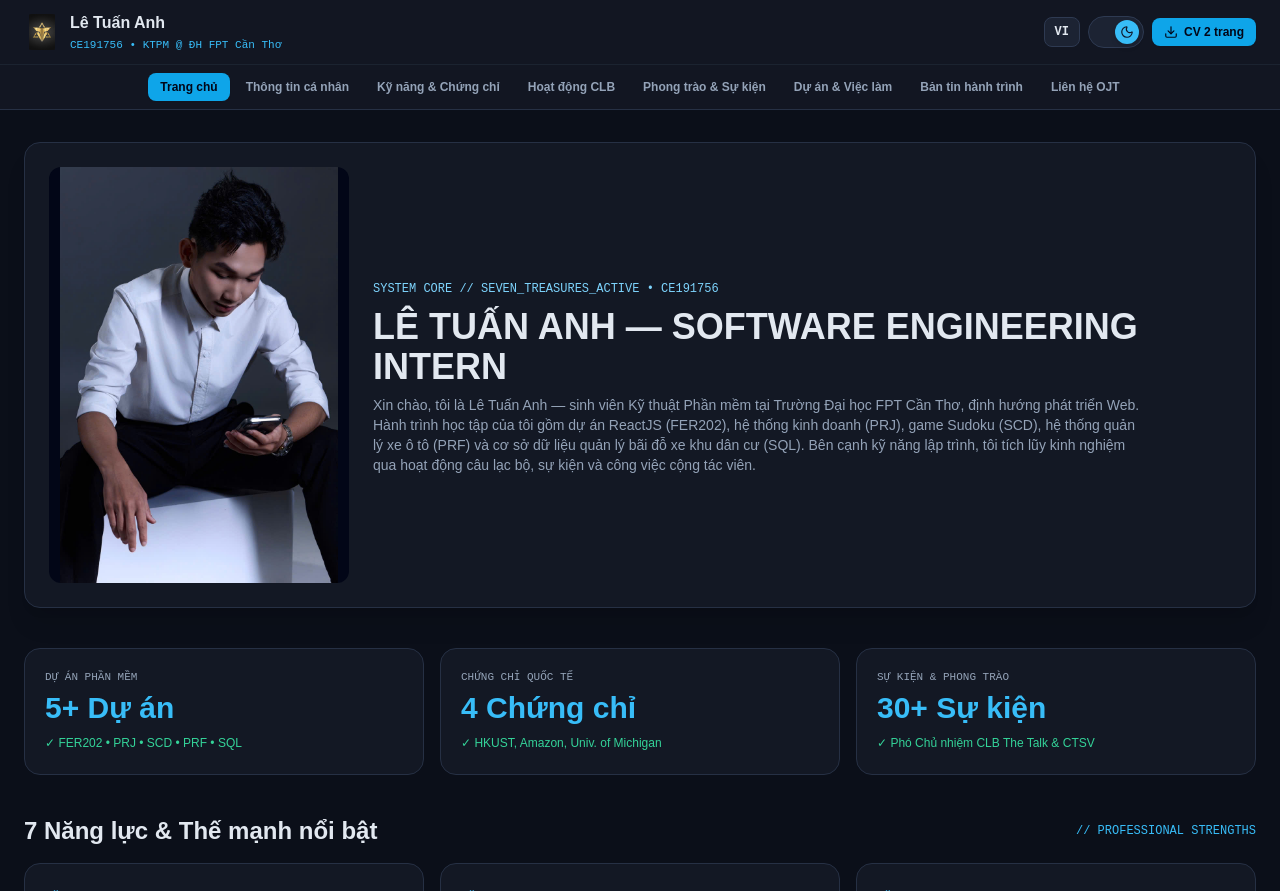
Test: shows the five portfolio stories and their supplied local photos
Click the button "Bản tin hành trình" at (972, 87), box x1=908 y1=73 x2=1035 y2=101
(page scrolled)
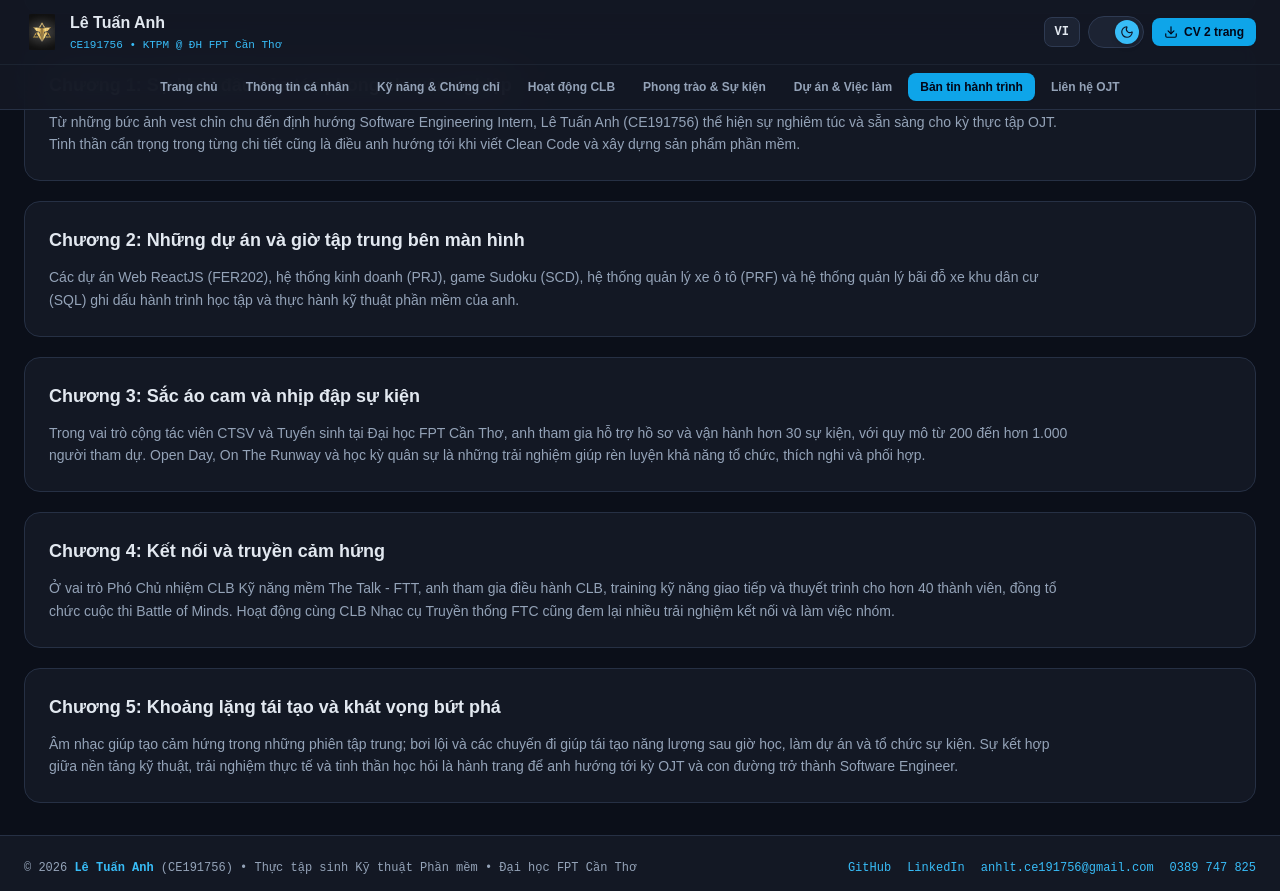
Expected: the heading "Chương 5: Khoảng lặng tái tạo và khát vọng bứt phá" is shown, x1=49 y1=696 x2=501 y2=716
